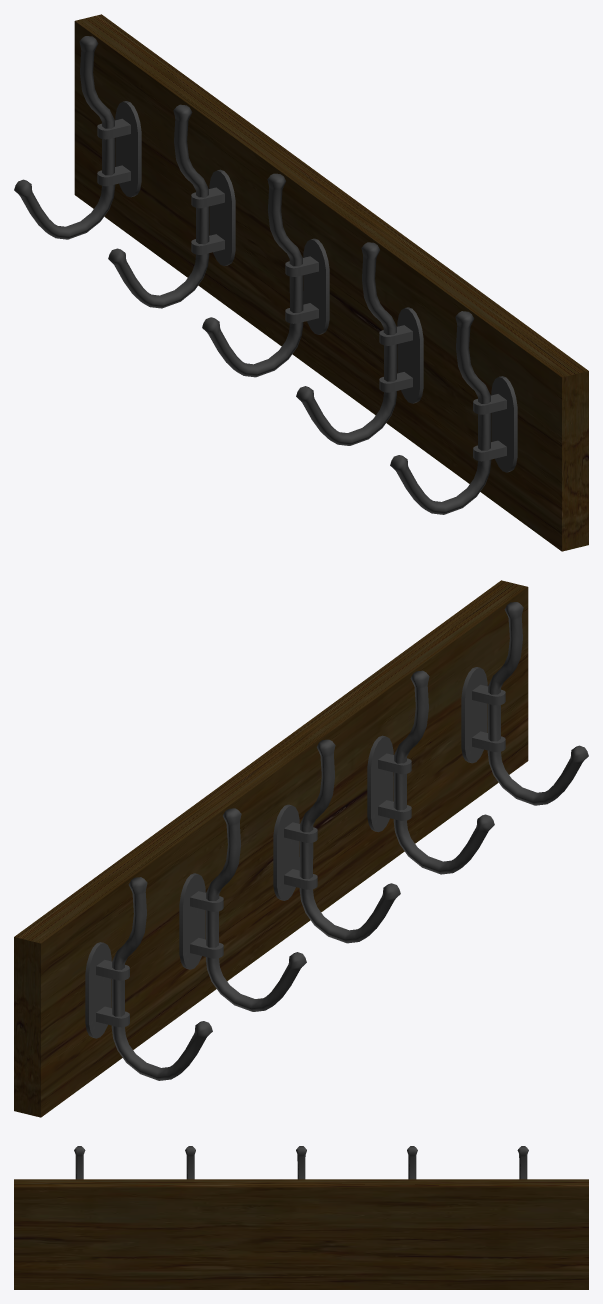
The model's file is coat_rack_wall_mounted_logan_s.glb.
The picture shows the model from 3 angles, top to bottom: view 1: azimuth 30°, elevation 25°; view 2: azimuth 150°, elevation 25°; view 3: azimuth 270°, elevation 25°; orthographic projection. The views are drawn at different scales.
Parts seen in each view (by area): view 1: Cube_Material_0; view 2: Cube_Material_0; view 3: Cube_Material_0.
Part boxes in pixels (box(x1,y1,x2,y2)): Cube_Material_0: box(14, 14, 588, 551); Cube_Material_0: box(14, 580, 588, 1117); Cube_Material_0: box(14, 1146, 588, 1289).
Size of the model in its own units: 0.4902 by 0.6918 by 2.94.
Materials: 1 (1 with a texture image).
